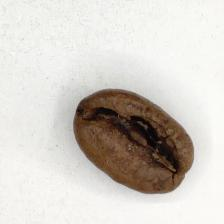NG: (94, 116, 175, 169)
